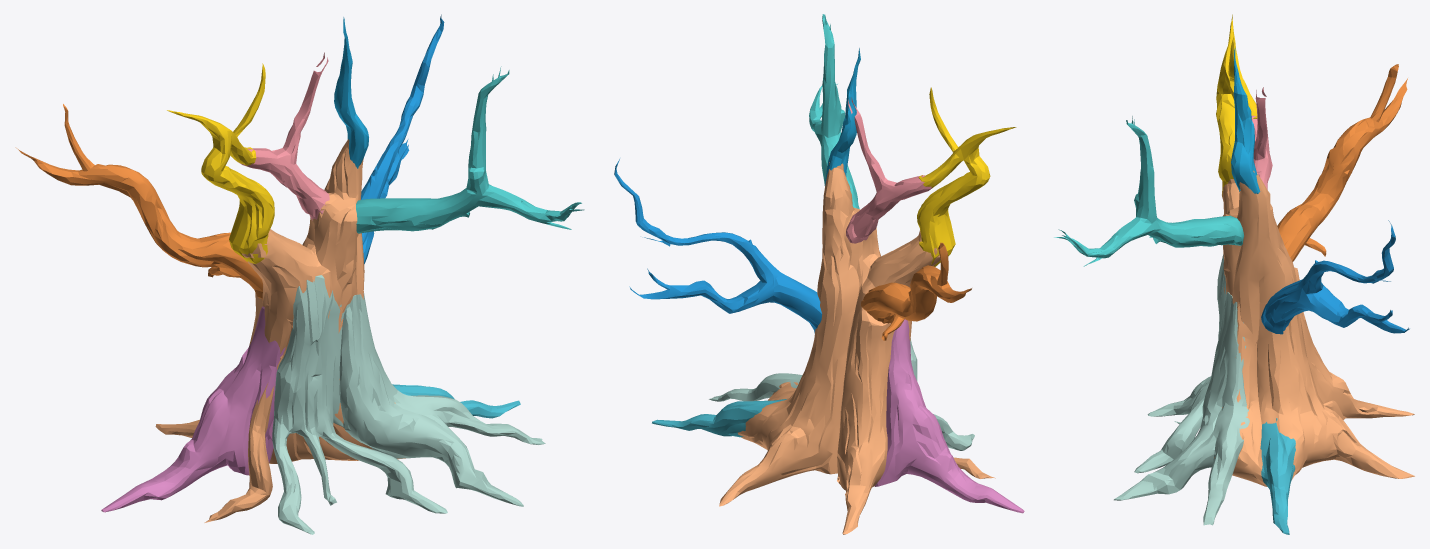
The model's file is thetree.fbx.
3 renders of one model, left to right at view 1: azimuth 30°, elevation 25°; view 2: azimuth 150°, elevation 25°; view 3: azimuth 270°, elevation 25°, orthographic. The views are drawn at different scales.
Visible parts, largest first — view 1: geometry_0_002.002; view 2: geometry_0_002.002; view 3: geometry_0_002.002.
Part boxes in pixels (x1=…): geometry_0_002.002: x1=15, y1=14, x2=584, y2=534; geometry_0_002.002: x1=614, y1=14, x2=1024, y2=534; geometry_0_002.002: x1=1054, y1=14, x2=1414, y2=534.
Bounding box in the file's own units: 1842 × 1883 × 1521.
